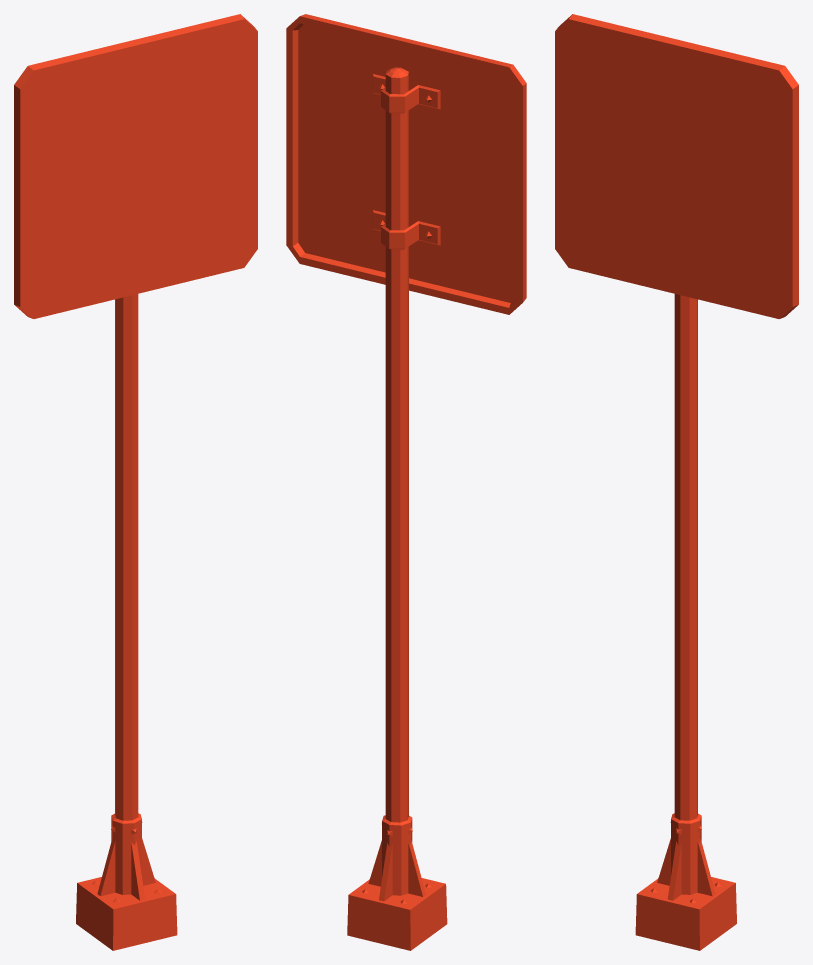
Rendered from SM_Sign_No_Parking_B_City.fbx.
The picture shows the model from 3 angles, left to right: view 1: azimuth 30°, elevation 25°; view 2: azimuth 150°, elevation 25°; view 3: azimuth 330°, elevation 25°; orthographic projection.
Parts seen in each view (by area): view 1: SM_Sign_No_Parking_B_City; view 2: SM_Sign_No_Parking_B_City; view 3: SM_Sign_No_Parking_B_City.
Boxes of the visible parts, x1,y1,x2,y2 form: SM_Sign_No_Parking_B_City: (14,14,257,950); SM_Sign_No_Parking_B_City: (286,14,526,950); SM_Sign_No_Parking_B_City: (555,14,798,950).
Bounding box in the file's own units: 0.6854 × 2.44 × 0.1839.
